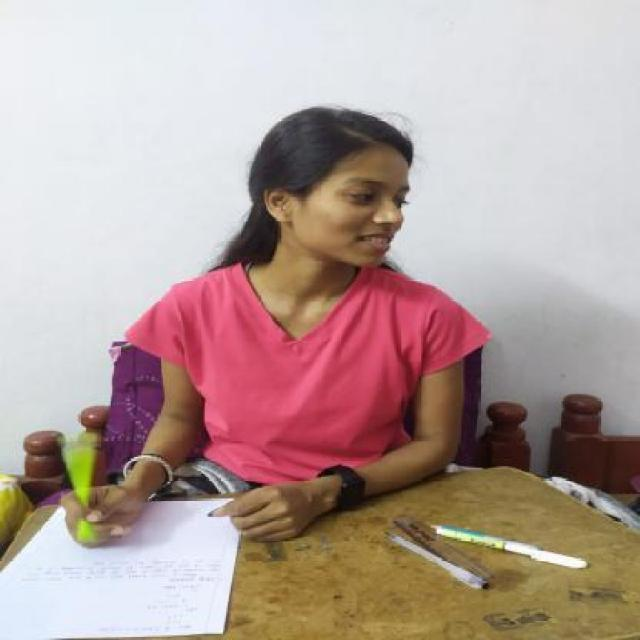cheating: (0, 92, 513, 640)
